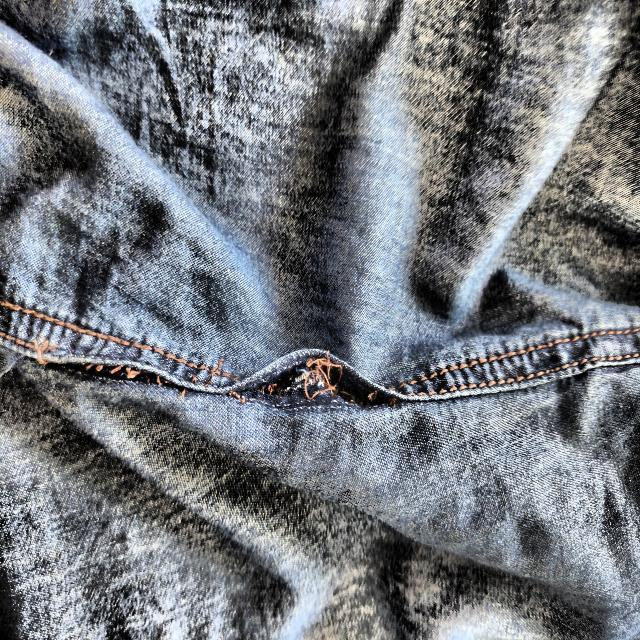gray stitch: (235, 336, 412, 424), (42, 339, 200, 404)
